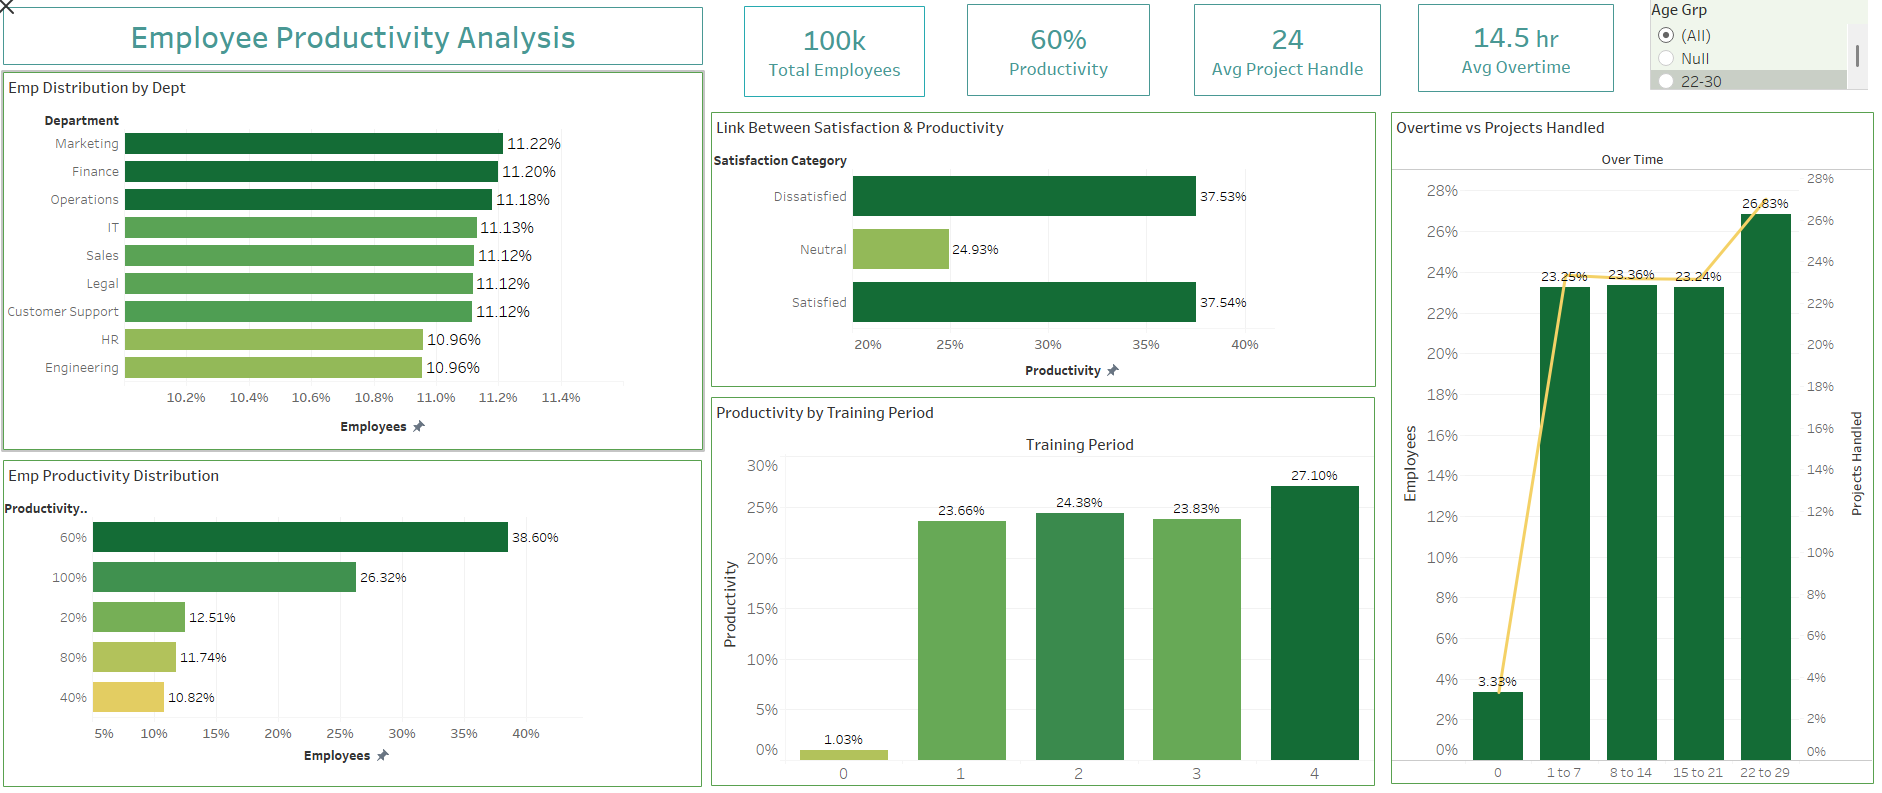

Layout of this report page (visuals, bound fields, positions):
{"tool":"tableau","page":{"name":"Dashboard 1","canvas":[1000,1000],"units":"permille","ordinal":0},"visuals":[{"type":"dashboard-object","box":[0,0,12.7,30]},{"type":"filter","title":"Emp Productivity Distribution","param":"[federated.0xjf72e1ad9c7l1g643wo0piiikt].[none:Age Grp:nk]","box":[876.9,5,115.9,114.9]},{"type":"text","box":[515.4,12.5,97.2,114.9]},{"type":"text","box":[635.5,12.5,99,114.9]},{"type":"text","box":[754.4,12.5,103.8,109.9]},{"type":"text","box":[397.2,15,95.9,113.6]},{"type":"text","box":[4.8,16.2,370.6,72.4]},{"type":"worksheet","title":"Emp Distribution by Dept","mark":"Automatic","rows":["Department"],"cols":["Employee_ID"],"box":[4.8,97.4,370.8,471.9]},{"type":"worksheet","title":"Link Between Satisfaction & Productivity","mark":"Automatic","rows":["Satisfaction Category"],"cols":["Productivity"],"box":[379.6,147.3,352.4,343.3]},{"type":"worksheet","title":"Overtime vs Projects Handled","mark":"Line","rows":["Projects_Handled"],"cols":["OverTime"],"box":[739.9,147.3,255.8,839]},{"type":"worksheet","title":"Productivity by Training Period","mark":"Bar","cols":["Training Period"],"box":[379.8,503.1,351.7,485.6]},{"type":"worksheet","title":"Emp Productivity Distribution","mark":"Automatic","rows":["Productivity Value"],"cols":["Employee_ID"],"box":[4.8,581.8,370.2,408.2]}]}

Visuals, with their boxes on the dashboard's canvas, which has no fixed pixel size, in thousandths of its width and height (x1, y1, x2, y2). These are canvas units, not pixel positions in the 1882x793 screenshot, which may show the page scaled, cropped or inside an application window:
dashboard-object: (0, 0, 13, 30)
"Emp Productivity Distribution" filter: (877, 5, 993, 120)
text: (515, 12, 613, 127)
text: (636, 12, 734, 127)
text: (754, 12, 858, 122)
text: (397, 15, 493, 129)
text: (5, 16, 375, 89)
"Emp Distribution by Dept" worksheet: (5, 97, 376, 569)
"Link Between Satisfaction & Productivity" worksheet: (380, 147, 732, 491)
"Overtime vs Projects Handled" worksheet (Line marks): (740, 147, 996, 986)
"Productivity by Training Period" worksheet (Bar marks): (380, 503, 732, 989)
"Emp Productivity Distribution" worksheet: (5, 582, 375, 990)
